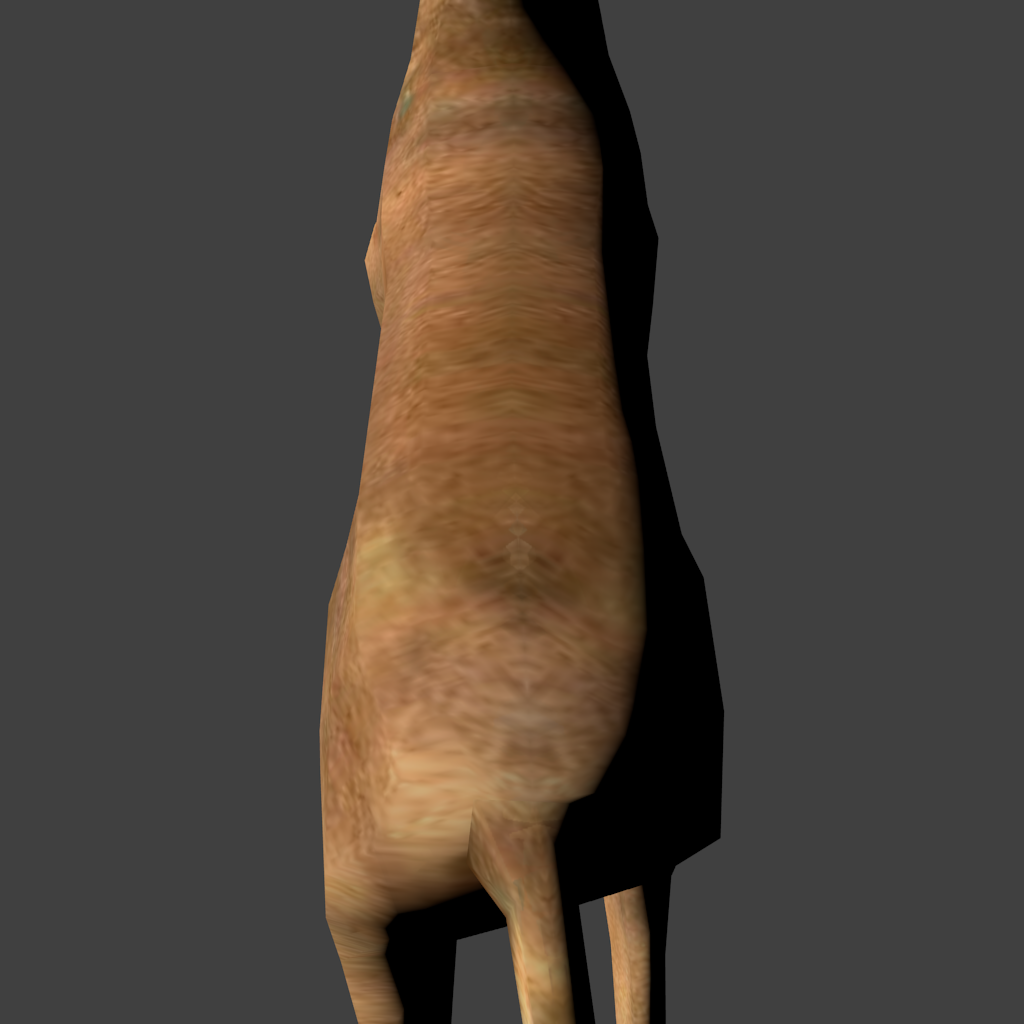Dog: (320, 0, 405, 1024)
